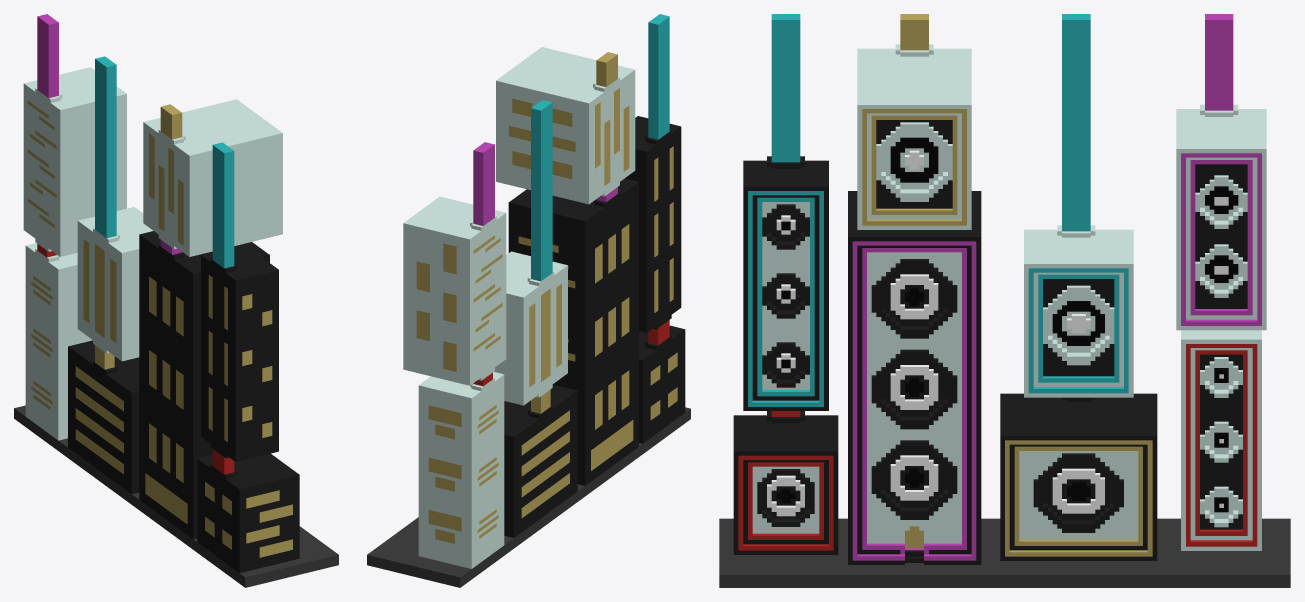
The model's file is SM_Environment_Street13.fbx.
3 views of the same model, side by side, from view 1: azimuth 30°, elevation 25°; view 2: azimuth 150°, elevation 25°; view 3: azimuth 270°, elevation 25° (orthographic). The views are drawn at different scales.
Parts seen in each view (by area): view 1: Street13; view 2: Street13; view 3: Street13.
Part boxes in pixels (<box>): Street13: <box>14,14,338,587</box>; Street13: <box>367,14,690,587</box>; Street13: <box>719,14,1290,587</box>.
Size of the model in its own units: 560 by 2400 by 2400.
Materials: 5 (1 with a texture image).
